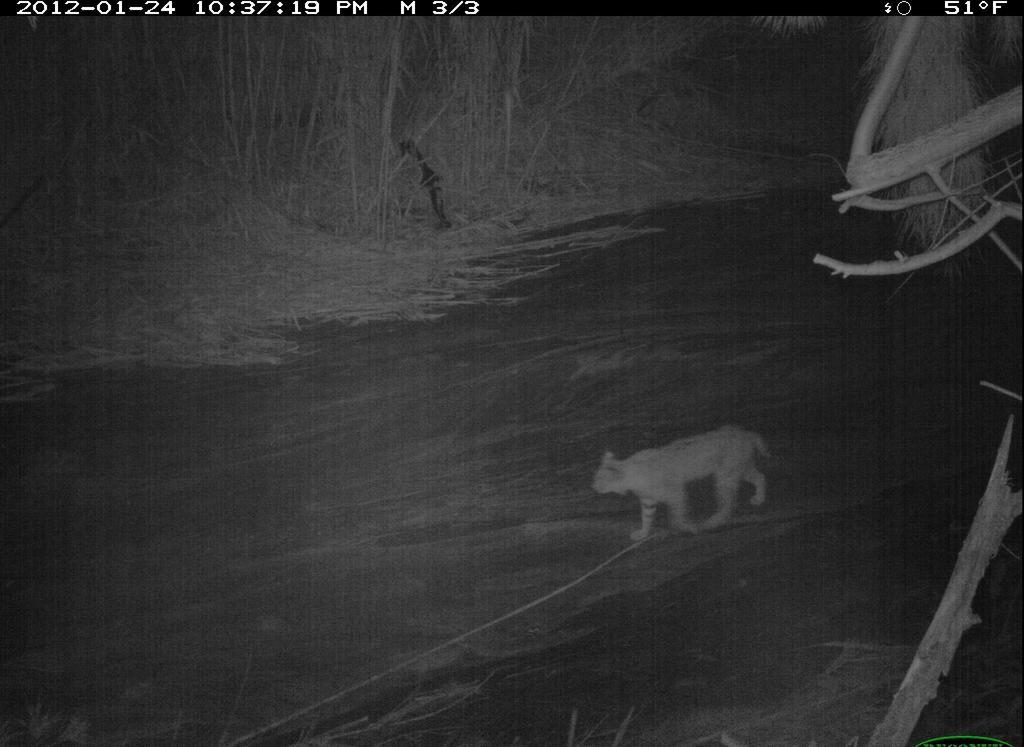bobcat: (588, 420, 779, 548)
